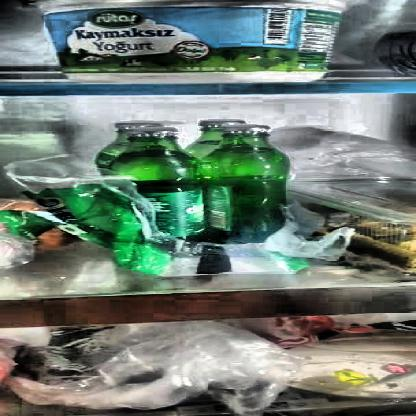mineral_water: (103, 121, 287, 235)
yoghurt: (30, 0, 339, 82)
